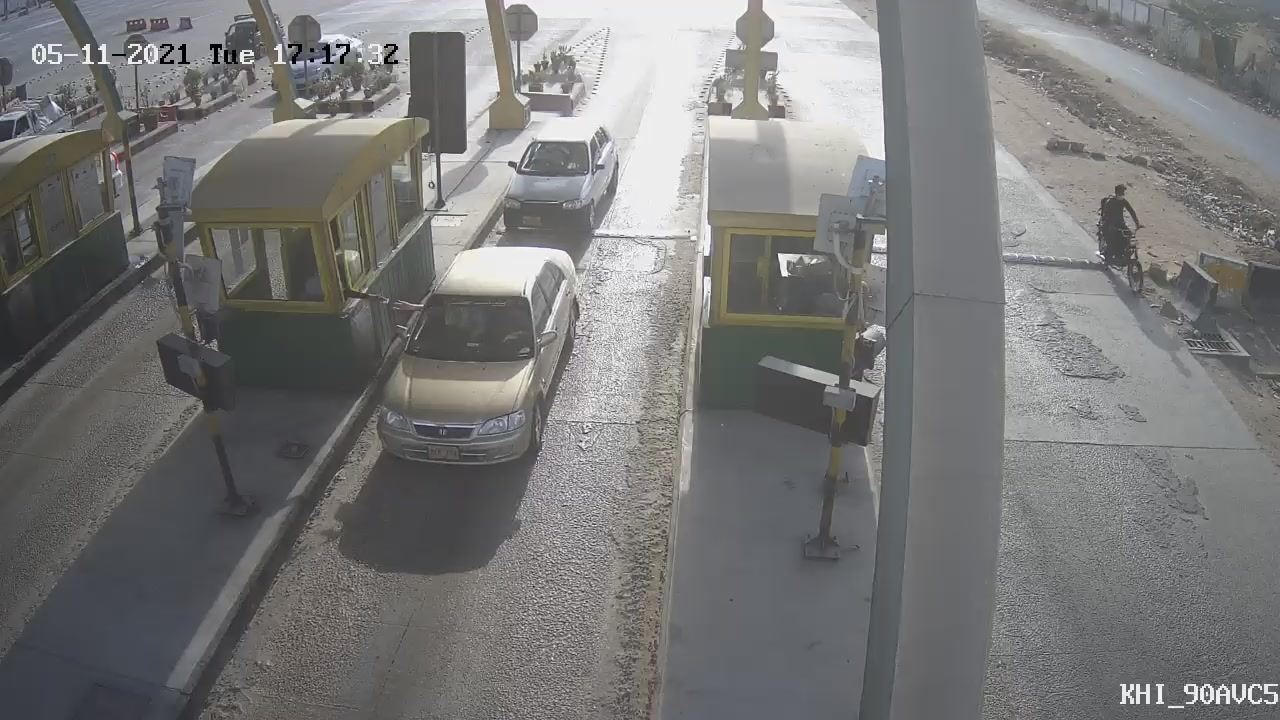F1: (363, 227, 601, 491), (483, 107, 634, 246)
